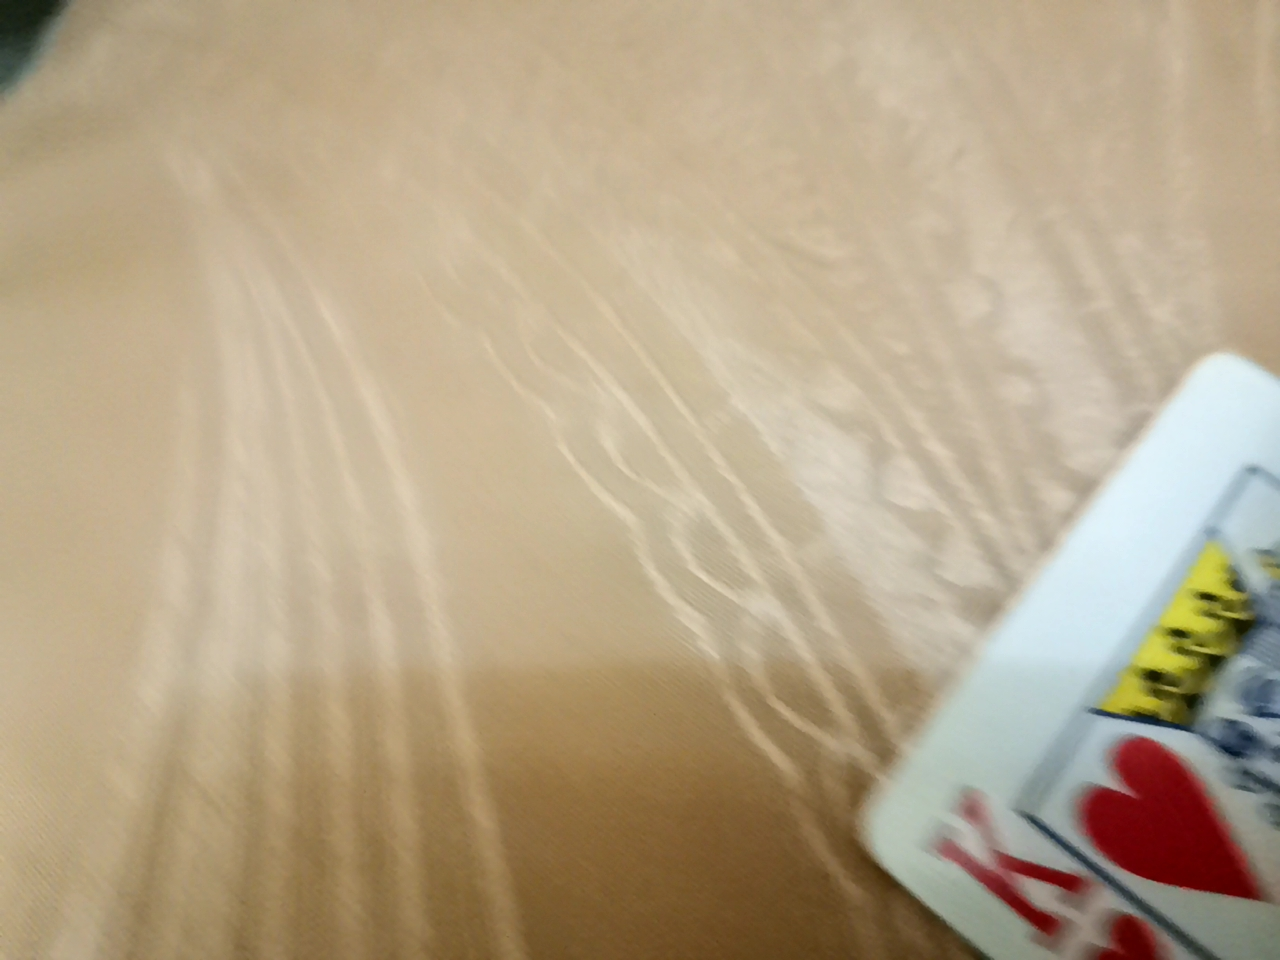hx k: (742, 353, 1277, 960)
